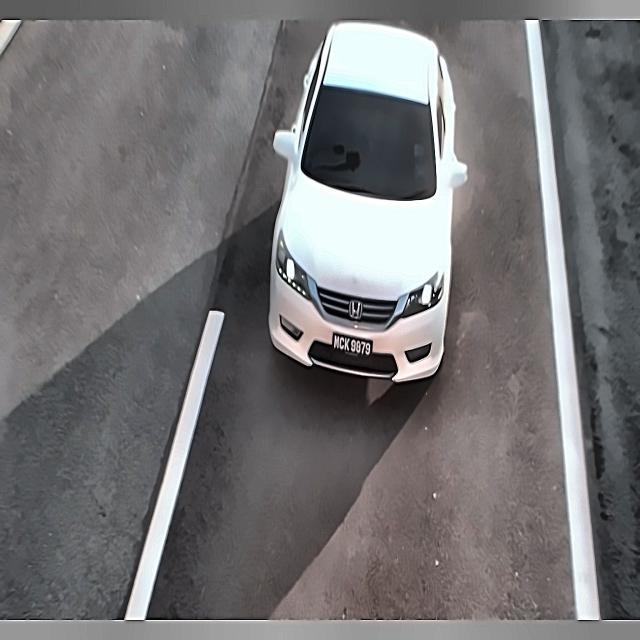car: (327, 327, 376, 366)
